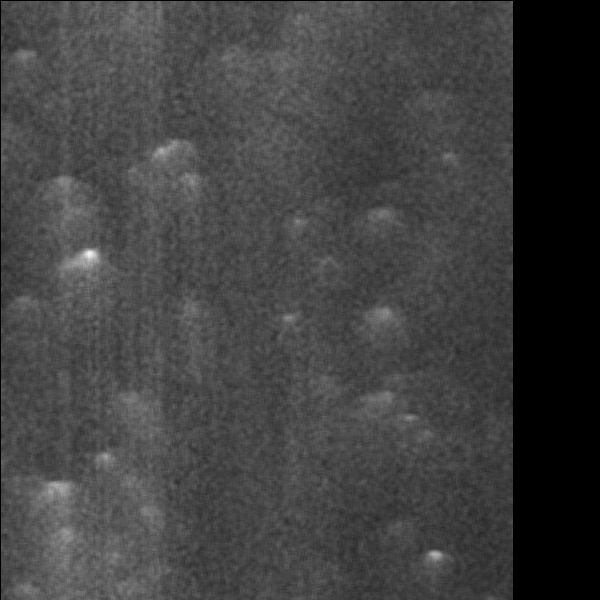spark: (73, 244, 106, 296), (365, 300, 402, 345), (33, 475, 80, 507), (149, 139, 183, 183), (41, 523, 90, 550), (118, 501, 165, 523), (90, 450, 122, 479), (365, 201, 394, 231), (283, 213, 314, 239), (180, 298, 201, 333), (272, 312, 308, 332), (423, 546, 446, 575), (437, 148, 461, 171)
